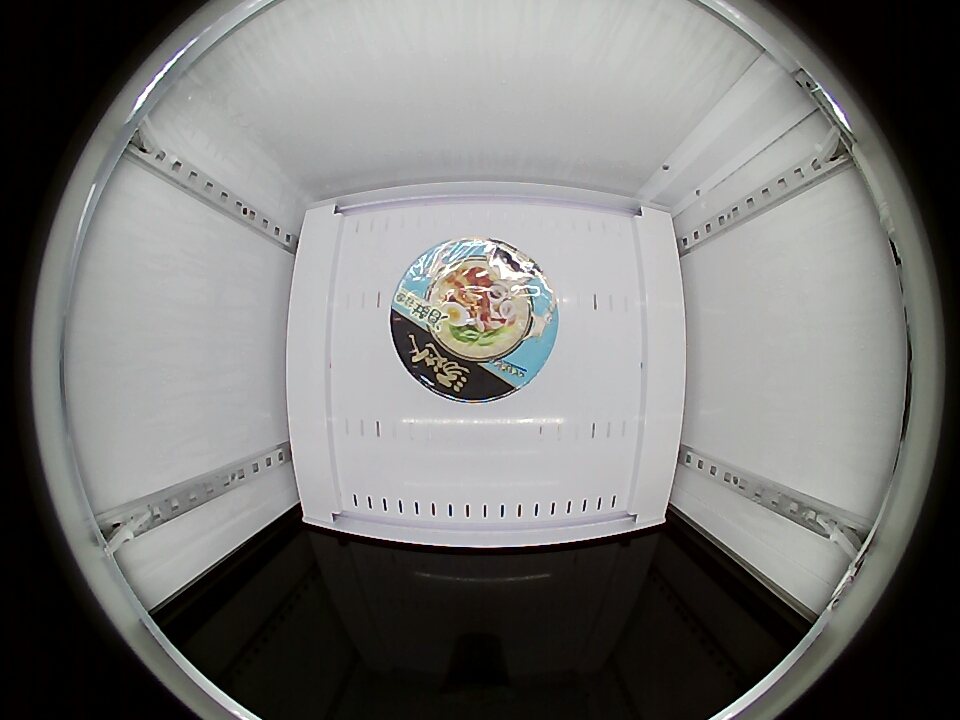tangdaren3: (390, 238, 557, 403)
